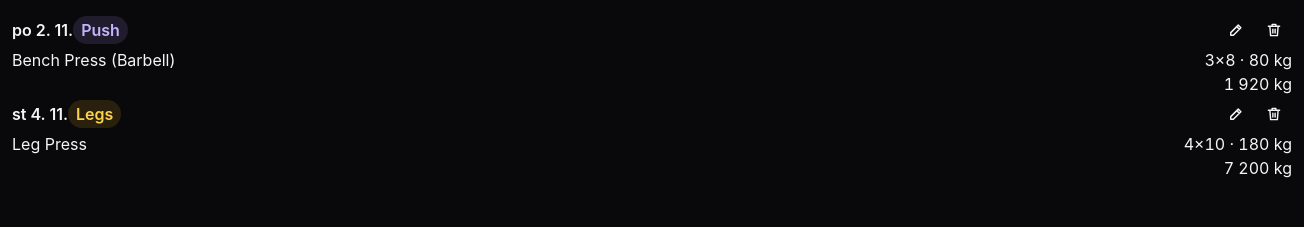
Test: WorkoutList deleting › a failed delete keeps the workout and shows the error in its card
Click the button named "Smazat trénink 2026-11-02": (1274, 30) [1256,12,1292,48]
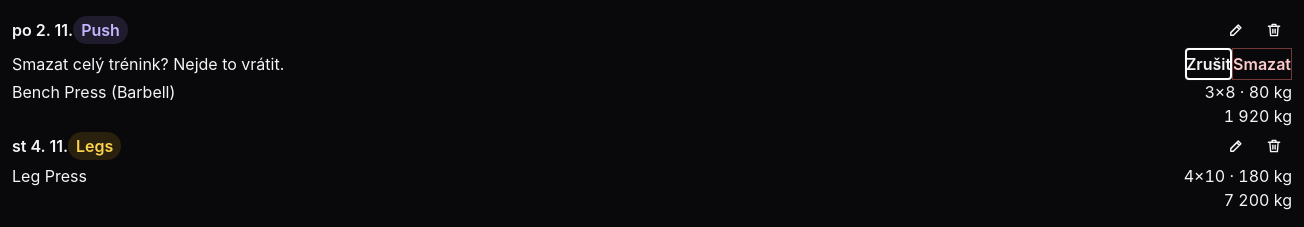
Click the button "Smazat": (1262, 64) [1232,48,1292,80]
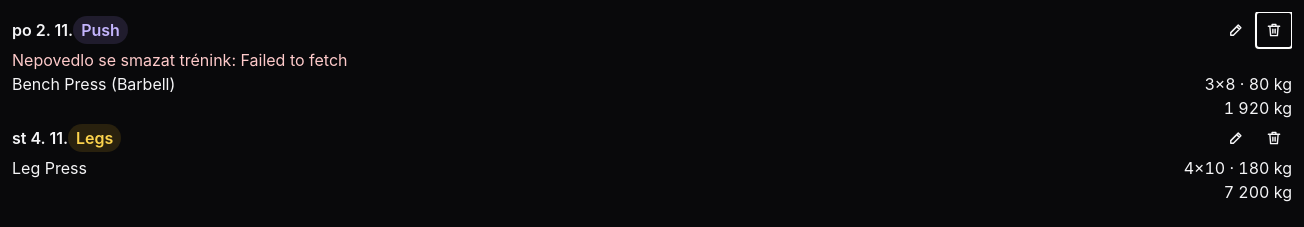
Now the message reads "Nepovedlo se smazat trénink: Failed to fetch", box [12,50,348,70]
# Asking again clears the old error.
Click the button named "Smazat trénink 2026-11-02": (1274, 30) [1256,12,1292,48]
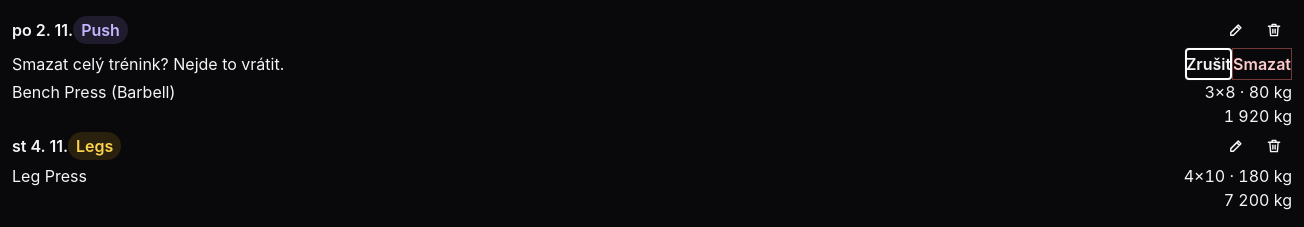
Now the message "Nepovedlo se smazat trénink: Failed to fetch" is gone
